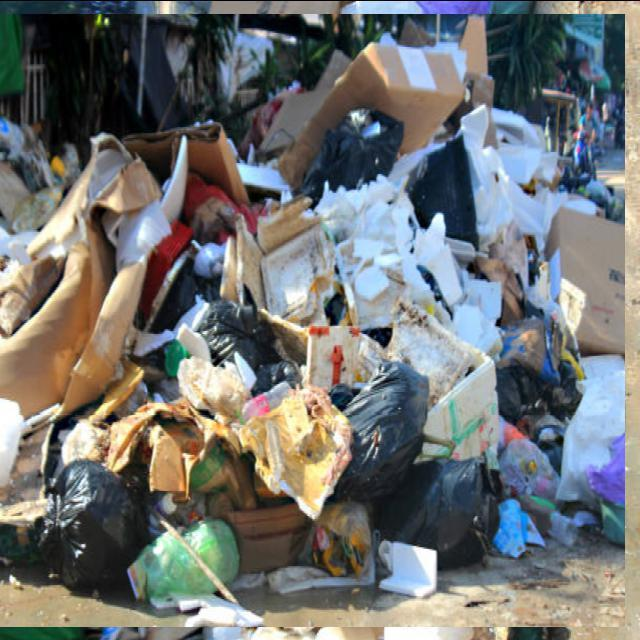Trashbag: (343, 360, 429, 502), (38, 463, 132, 585), (417, 455, 492, 579), (312, 126, 411, 200), (200, 293, 282, 379), (417, 148, 481, 236), (497, 356, 538, 425)
